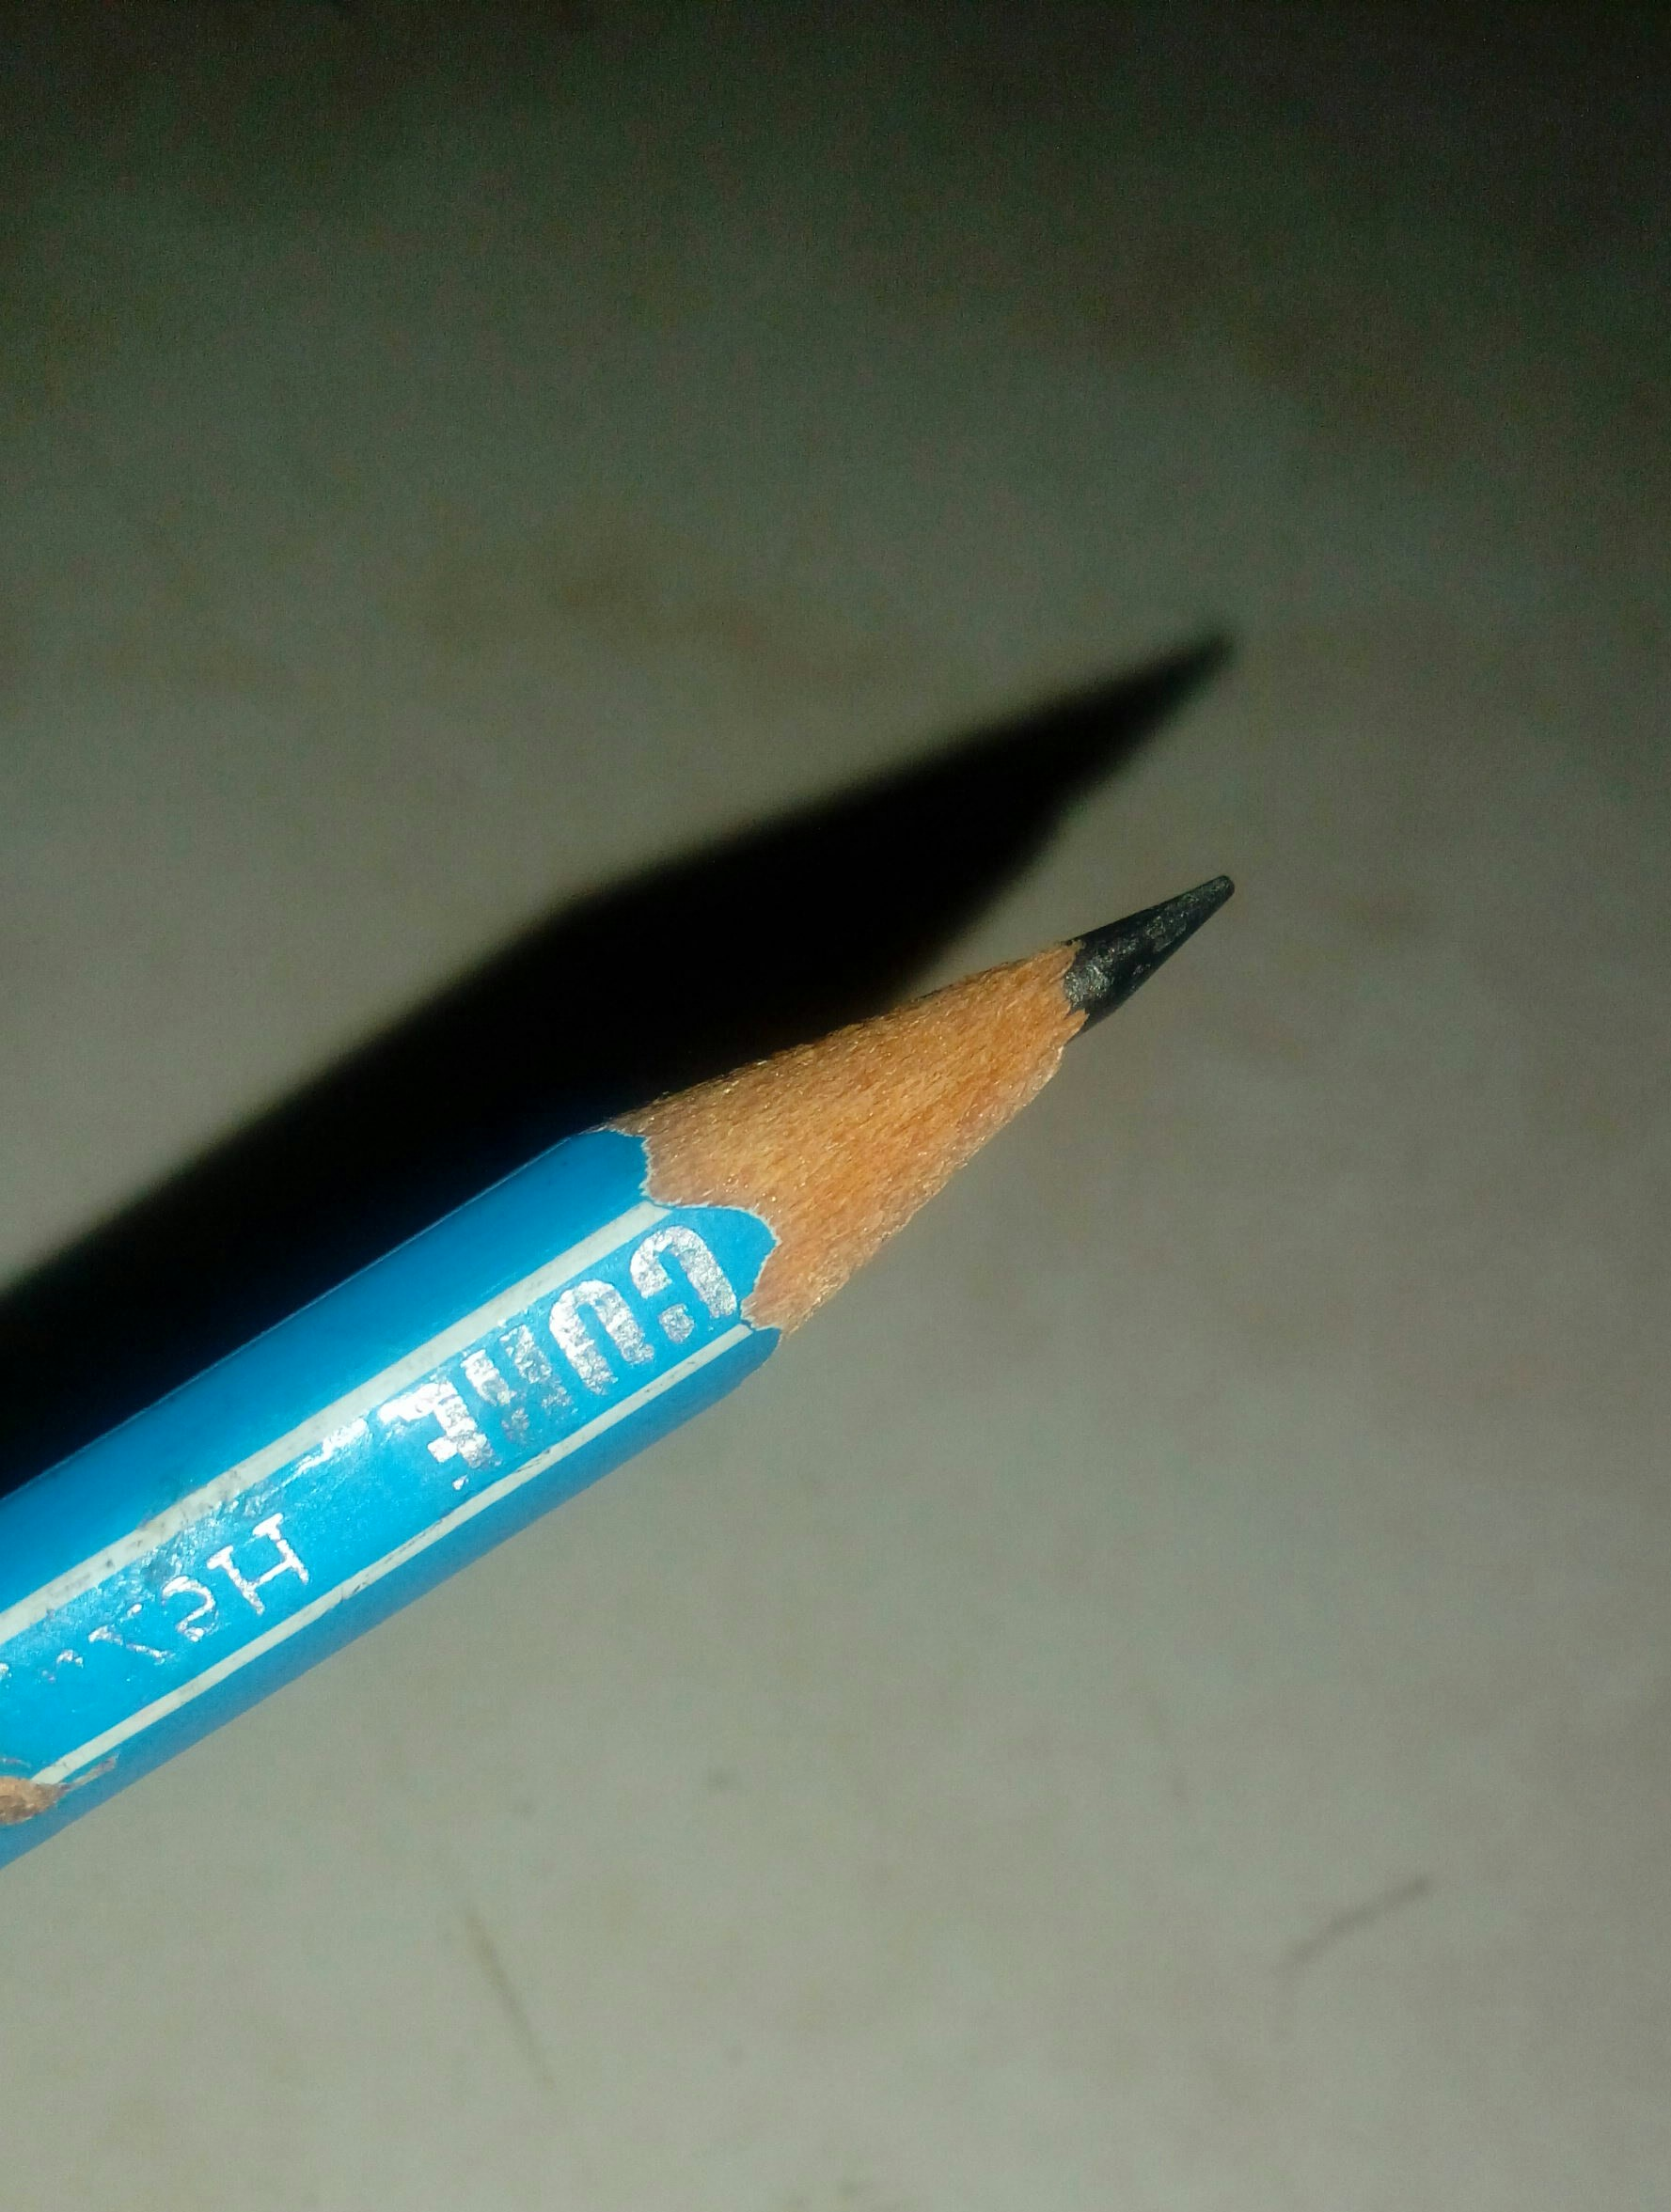pen_tip: (467, 837, 1457, 1456)
